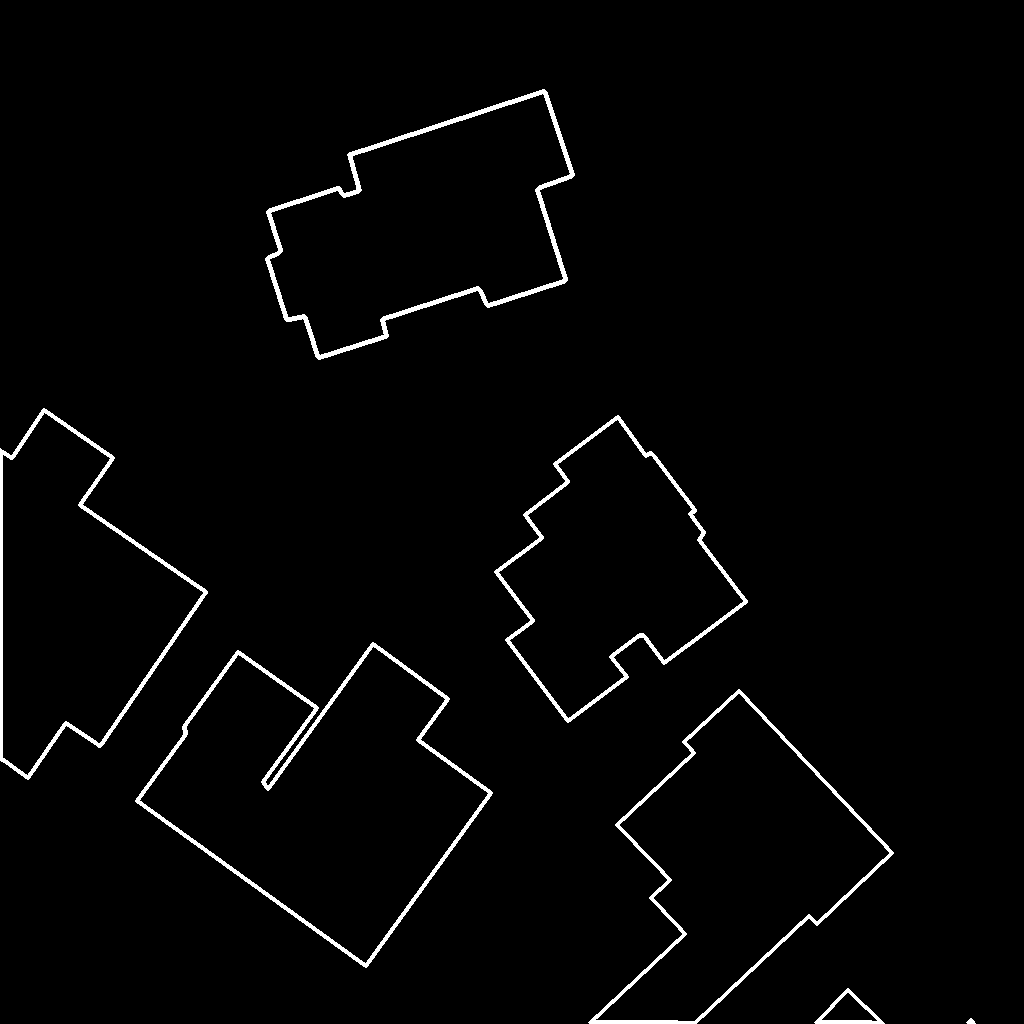building: (137, 644, 492, 967), (590, 691, 893, 1024), (267, 91, 574, 359), (496, 417, 747, 722), (0, 410, 207, 779), (790, 990, 975, 1024)
